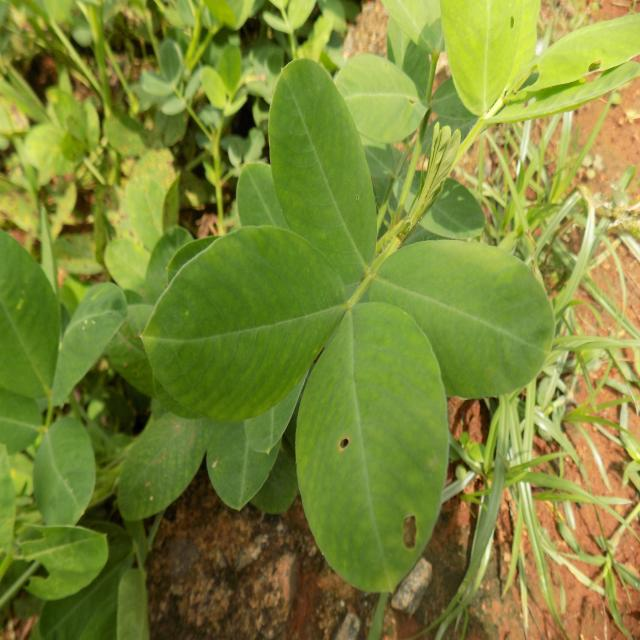Ground nut_healthy: (292, 296, 452, 598), (138, 222, 350, 422), (337, 238, 557, 399), (265, 56, 374, 272), (112, 413, 209, 523), (318, 54, 429, 150), (30, 413, 88, 540)
